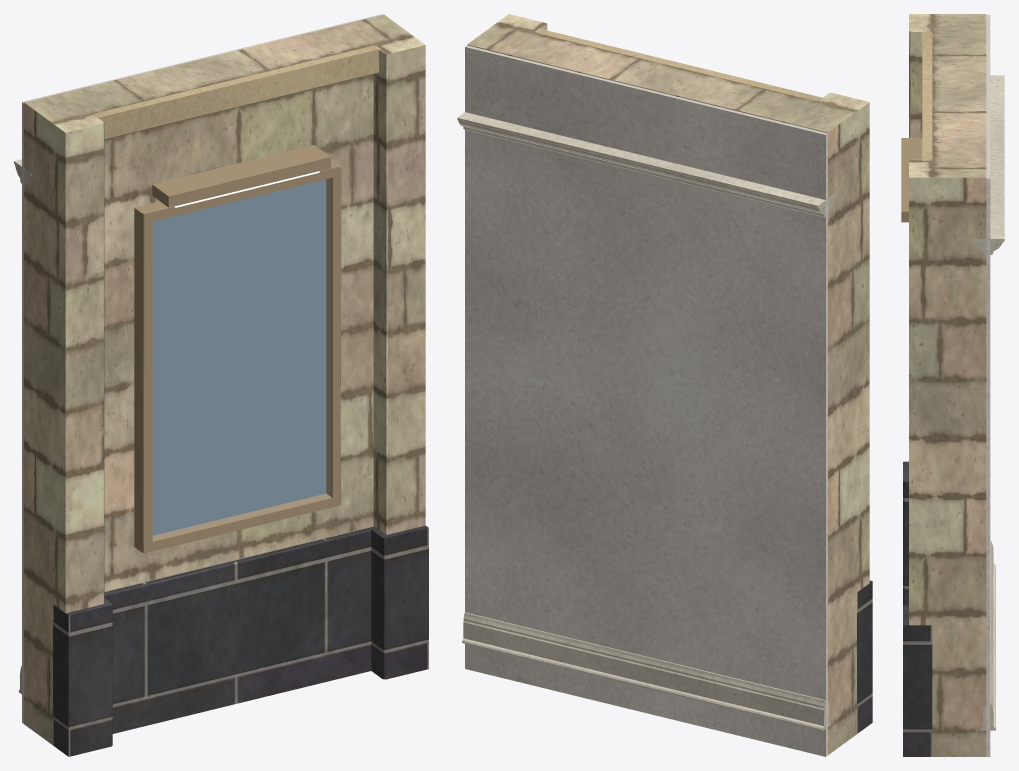
The model's file is f_g_poster.glb.
3 renders of one model, left to right at view 1: azimuth 30°, elevation 25°; view 2: azimuth 150°, elevation 25°; view 3: azimuth 270°, elevation 25°, orthographic. The views are drawn at different scales.
Parts seen in each view (by area): view 1: f_g_poster_terra, f_g_poster_glass, f_g_poster_poster, f_g_poster_plinth, f_g_poster_bronze, f_g_poster_terra2, f_g_poster_plaster; view 2: f_g_poster_plaster, f_g_poster_terra, molduras, f_g_poster_plinth, f_g_poster_terra2; view 3: f_g_poster_terra, f_g_poster_plinth, molduras, f_g_poster_plaster, f_g_poster_terra2, f_g_poster_bronze.
Boxes of the visible parts, box(x1,y1,x2,y2) form: f_g_poster_terra: box(24, 14, 425, 744); f_g_poster_glass: box(153, 179, 330, 539); f_g_poster_poster: box(152, 179, 326, 535); f_g_poster_plinth: box(53, 525, 428, 756); f_g_poster_bronze: box(134, 145, 341, 553); f_g_poster_terra2: box(93, 45, 378, 139); f_g_poster_plaster: box(22, 14, 382, 723); f_g_poster_plaster: box(465, 45, 827, 756); f_g_poster_terra: box(467, 14, 869, 754); molduras: box(457, 112, 835, 730); f_g_poster_plinth: box(857, 580, 872, 733); f_g_poster_terra2: box(536, 29, 821, 101); f_g_poster_terra: box(909, 14, 986, 756); f_g_poster_plinth: box(903, 461, 932, 756); molduras: box(972, 75, 1004, 730); f_g_poster_plaster: box(986, 15, 990, 756); f_g_poster_terra2: box(922, 32, 932, 159); f_g_poster_bronze: box(901, 138, 922, 222).
Size of the model in its own units: 2 by 3.3 by 0.535.
9 materials, 5 textured.
